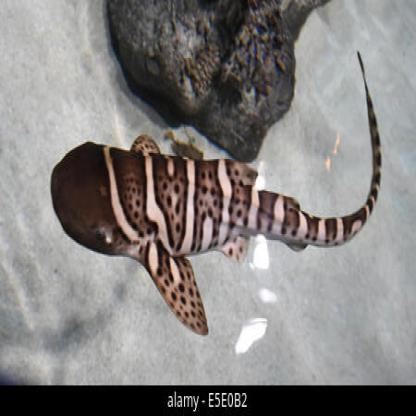zebra_shark: (36, 46, 392, 338)
